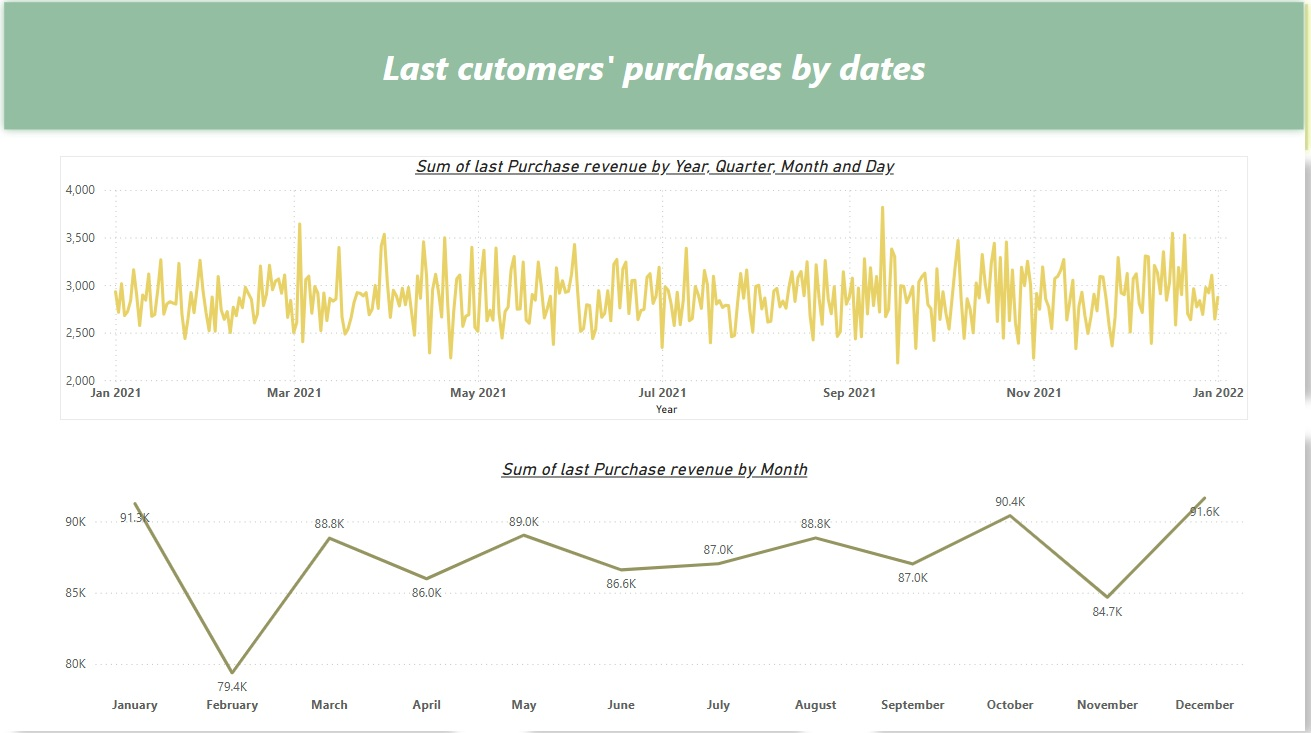

Layout of this report page (visuals, bound fields, positions):
{"tool":"powerbi","page":{"name":"Purchases by dates ","canvas":[1280,720],"ordinal":1},"visuals":[{"type":"shape","title":"Customers'' info","box":[0,0,1279.7,139.7],"z":0},{"type":"lineChart","title":"Sum of last Purchase revenue by Year, Quarter, Month and Day","fields":{"Y":["Sum(Online Shop Customer Sales Data.Purchase_VALUE)"],"Category":["Online Shop Customer Sales Data.Purchase_DATE.Variation.Date Hierarchy.Year","Online Shop Customer Sales Data.Purchase_DATE.Variation.Date Hierarchy.Quarter","Online Shop Customer Sales Data.Purchase_DATE.Variation.Date Hierarchy.Month","Online Shop Customer Sales Data.Purchase_DATE.Variation.Date Hierarchy.Day"]},"box":[61.8,157.6,1156.1,257],"z":1000},{"type":"lineChart","title":"Sum of last Purchase revenue by Month","fields":{"Y":["Sum(Online Shop Customer Sales Data.Purchase_VALUE)"],"Category":["Online Shop Customer Sales Data.Purchase_DATE.Variation.Date Hierarchy.Month"]},"box":[61.8,452.2,1156.1,257],"z":2000}]}

Visuals, with their boxes in screenshot pixels (x1, y1, x2, y2), scaled from the page's 1280x720 canvas onto the 1311x733 screenshot:
"Customers'' info" shape: (0, 0, 1310, 142)
"Sum of last Purchase revenue by Year, Quarter, Month and Day" lineChart: (63, 160, 1247, 422)
"Sum of last Purchase revenue by Month" lineChart: (63, 460, 1247, 722)
